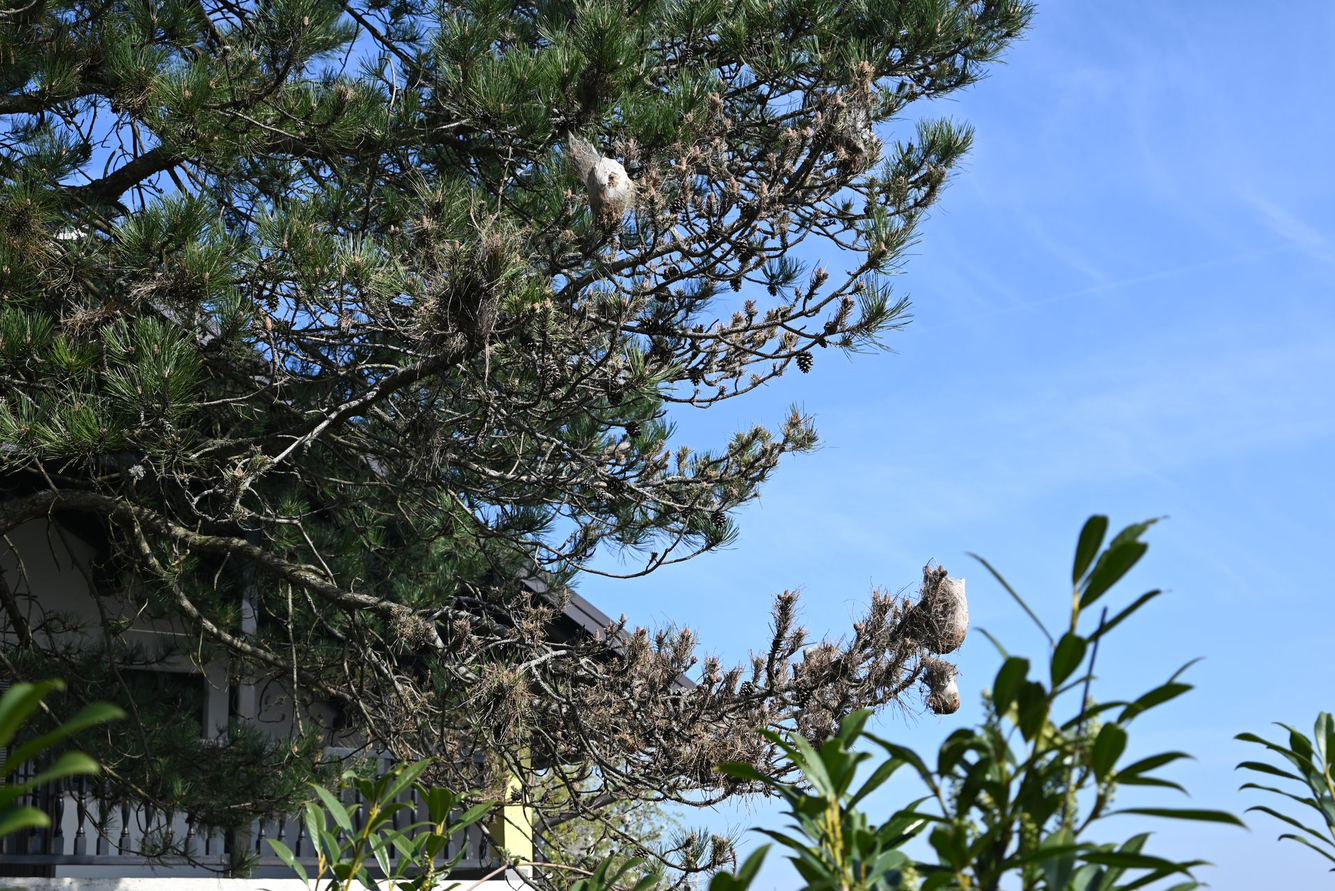thaumatopoea pityocampa jajno gnijezdo: (911, 564, 967, 656), (580, 153, 641, 231), (919, 654, 962, 716)
